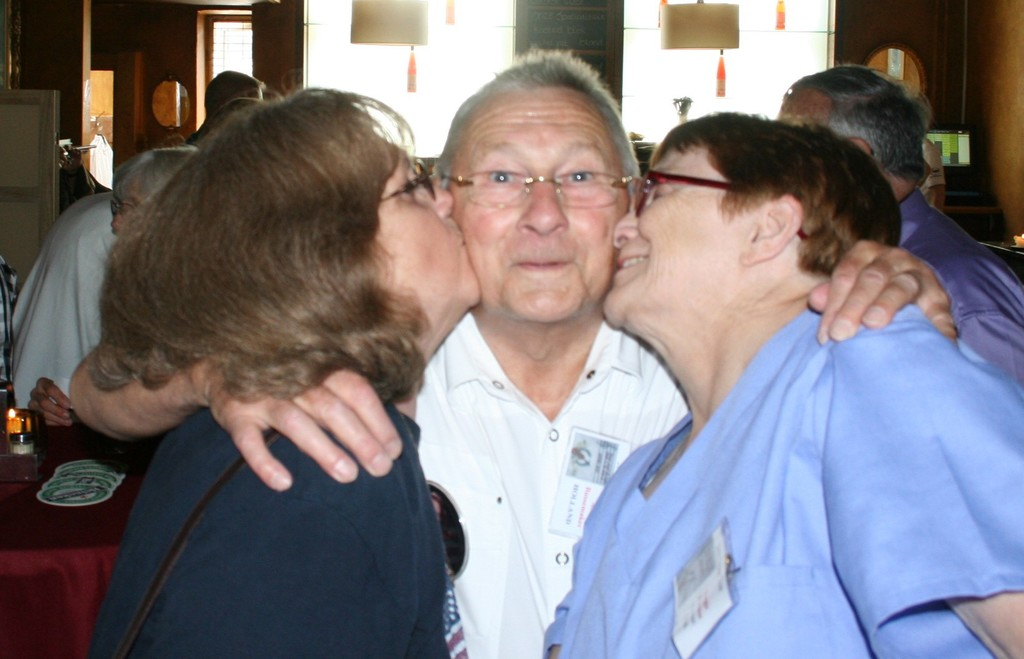Human_hand: (202, 353, 405, 493), (803, 237, 968, 348), (27, 377, 76, 429)
